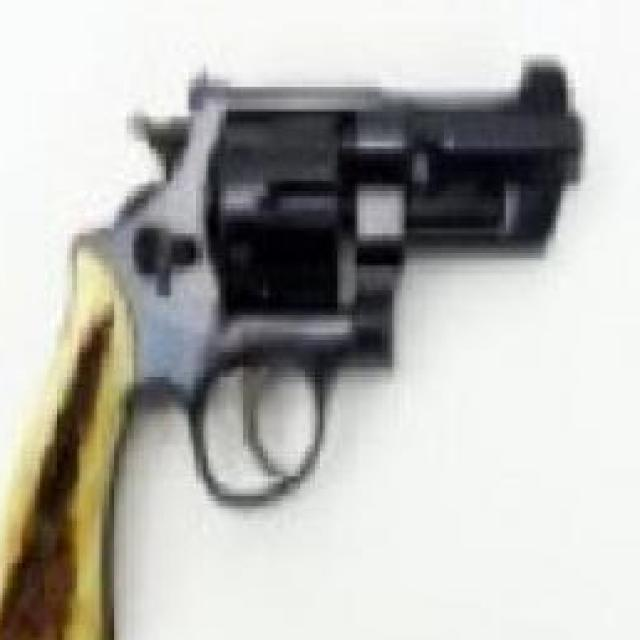pistol: (1, 49, 571, 640)
